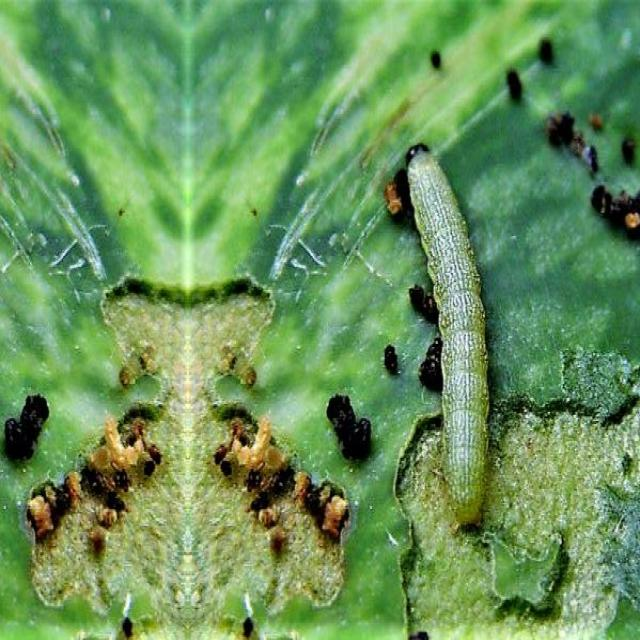Armyworm: (396, 144, 524, 553)
